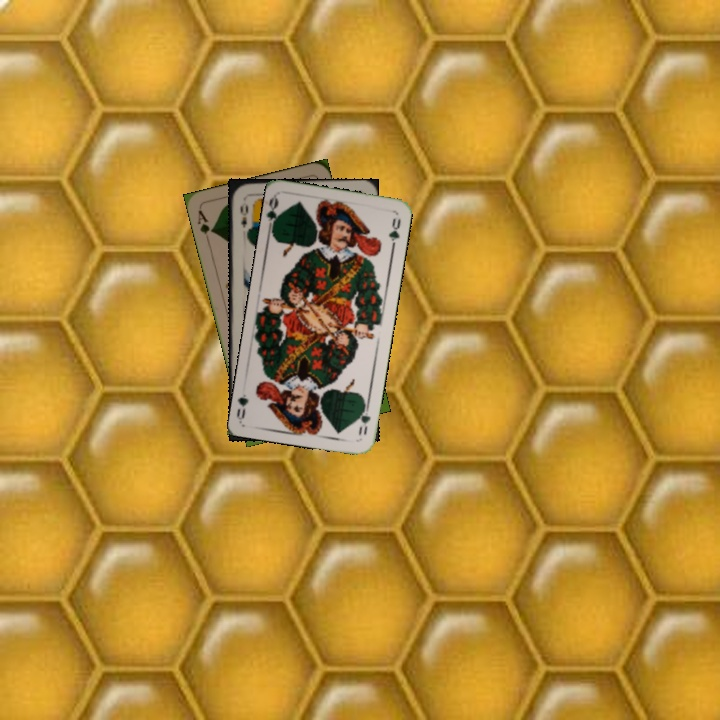EO: (236, 200, 251, 231)
GA: (193, 206, 216, 246)
GO: (264, 193, 285, 234), (354, 399, 373, 438)
